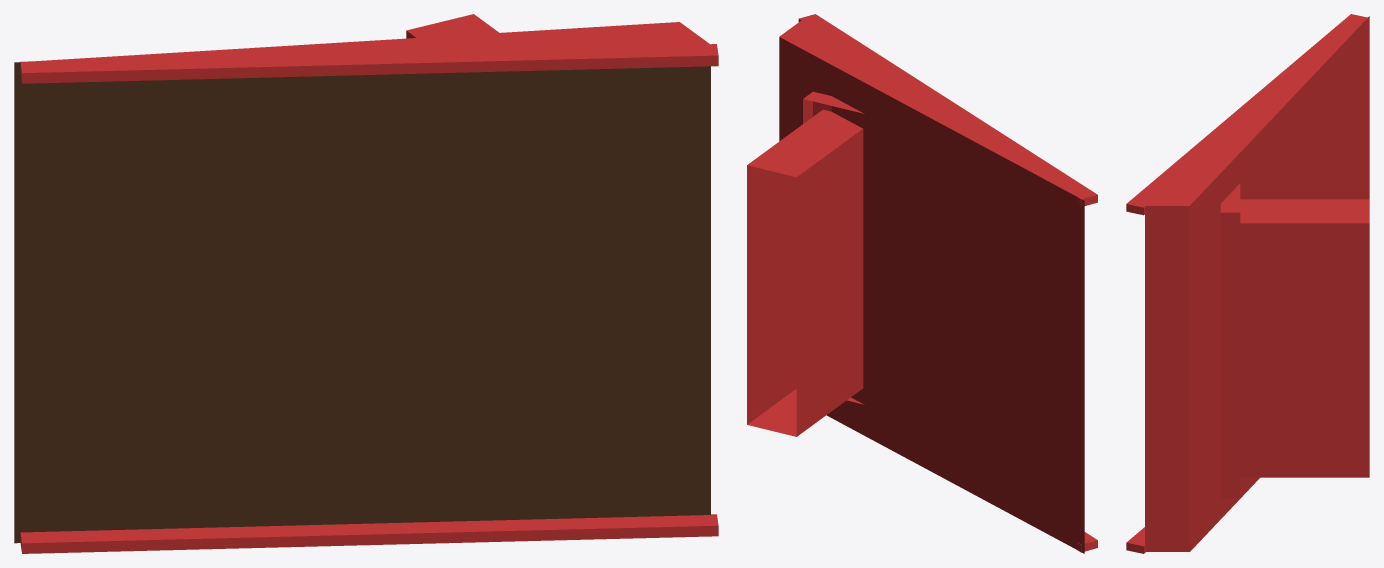
Rendered from ramp.glb.
3 views of the same model, side by side, from view 1: azimuth 30°, elevation 25°; view 2: azimuth 150°, elevation 25°; view 3: azimuth 270°, elevation 25° (orthographic). The views are drawn at different scales.
Visible parts, largest first — view 1: bridge_08_ramp; view 2: bridge_08_ramp; view 3: bridge_08_ramp.
Part boxes in pixels (box(x1,y1,x2,y2)): bridge_08_ramp: box(14, 14, 718, 553); bridge_08_ramp: box(747, 14, 1097, 553); bridge_08_ramp: box(1126, 14, 1369, 553).
Size of the model in its own units: 16.31 by 13.6 by 8.66.
